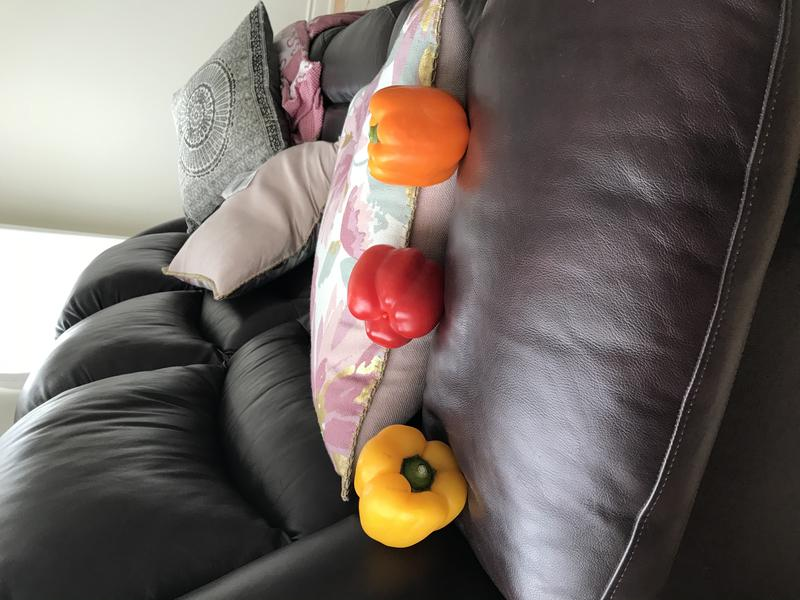orange_pepper: (358, 82, 474, 192)
red_pepper: (344, 238, 448, 353)
yellow_pepper: (347, 415, 475, 556)
